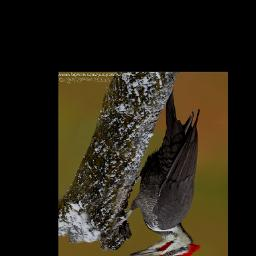Woodpecker: (114, 86, 202, 256)
